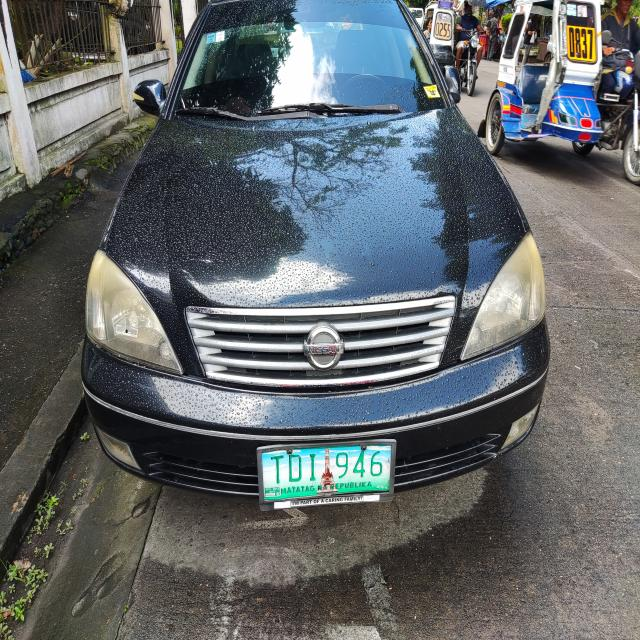plate: (251, 435, 398, 513)
